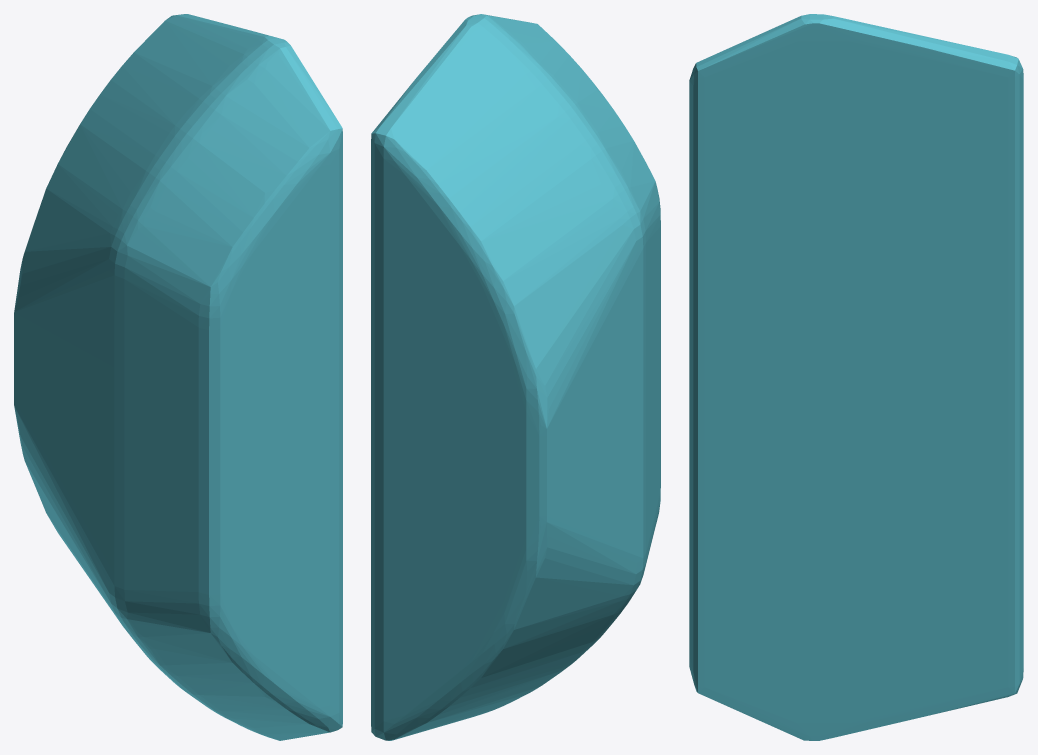
The model's file is right_forearm_1_part_2.obj.
3 views of the same model, side by side, from view 1: azimuth 30°, elevation 25°; view 2: azimuth 150°, elevation 25°; view 3: azimuth 270°, elevation 25° (orthographic). The views are drawn at different scales.
Bounding box in the file's own units: 35.16 × 132 × 55.65.
